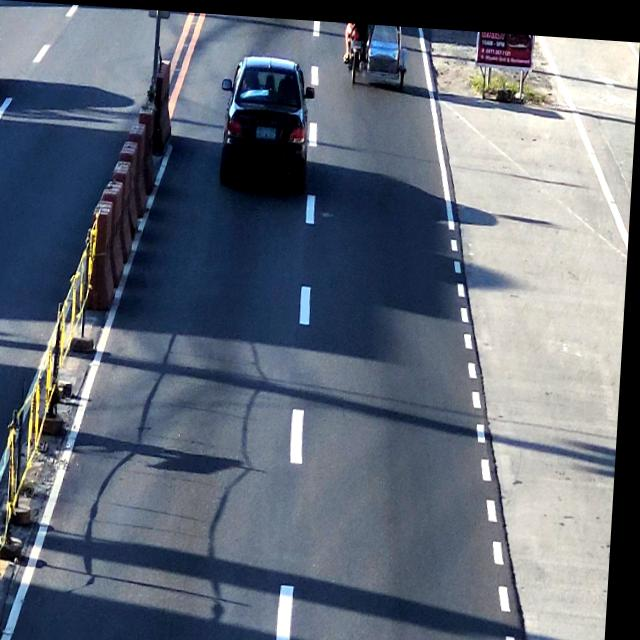Car: (222, 52, 312, 192)
License-Plate: (257, 121, 278, 137)
Tricycle: (341, 18, 409, 86)
